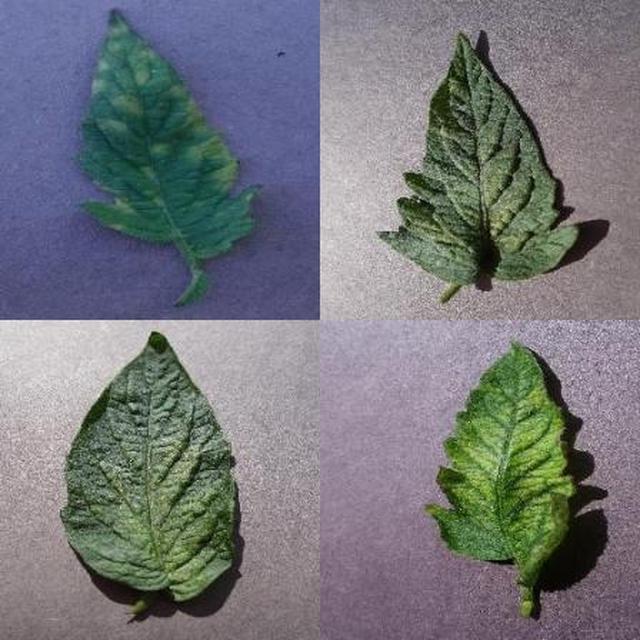Leaf Mold: (217, 191, 640, 640)
